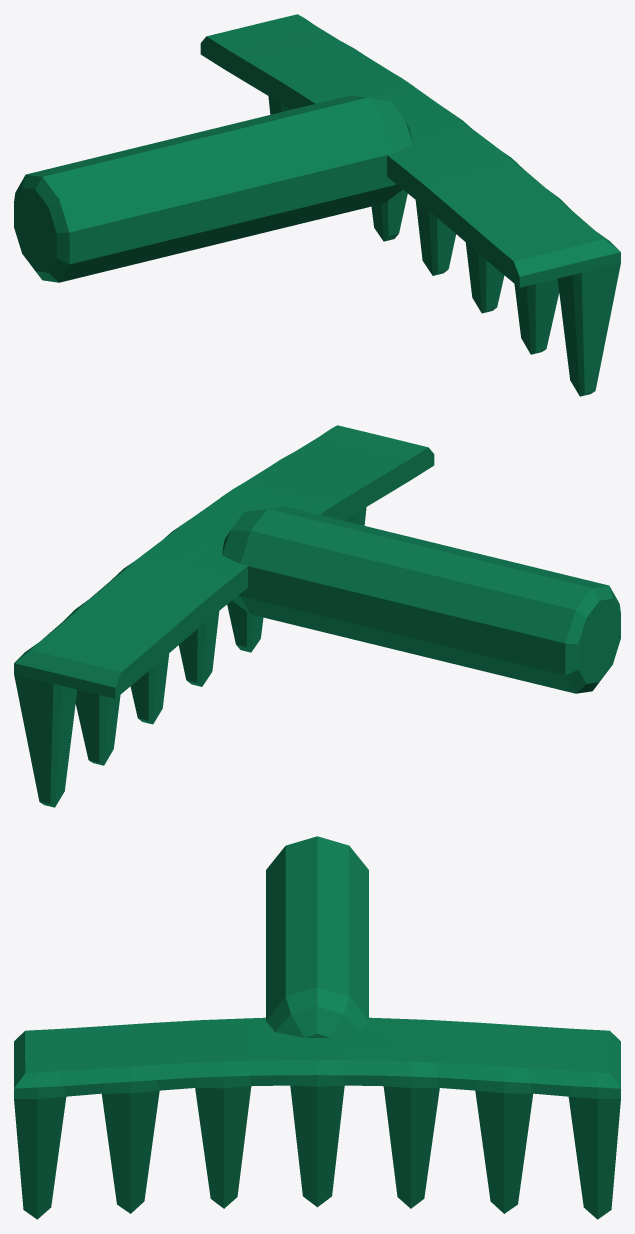
Rendered from PuntaRastrilloRota.fbx.
3 renders of one model, top to bottom at view 1: azimuth 30°, elevation 25°; view 2: azimuth 150°, elevation 25°; view 3: azimuth 270°, elevation 25°, orthographic. The views are drawn at different scales.
Parts seen in each view (by area): view 1: PuntaRota; view 2: PuntaRota; view 3: PuntaRota.
Part boxes in pixels (<box>): PuntaRota: <box>14,14,620,396</box>; PuntaRota: <box>14,425,620,807</box>; PuntaRota: <box>14,836,620,1219</box>.
Size of the model in its own units: 14.49 by 6.69 by 18.67.
